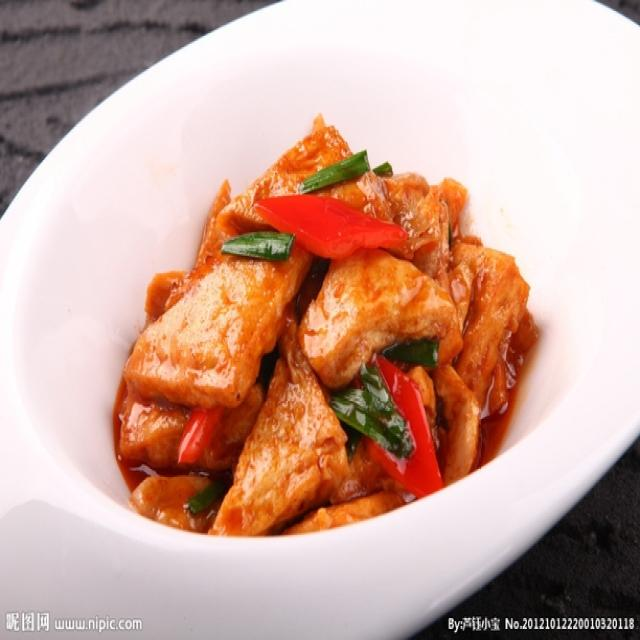豆腐料理: (7, 8, 634, 626)
